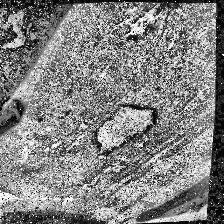pothole: (88, 98, 166, 162), (113, 2, 178, 38), (0, 6, 34, 54)
